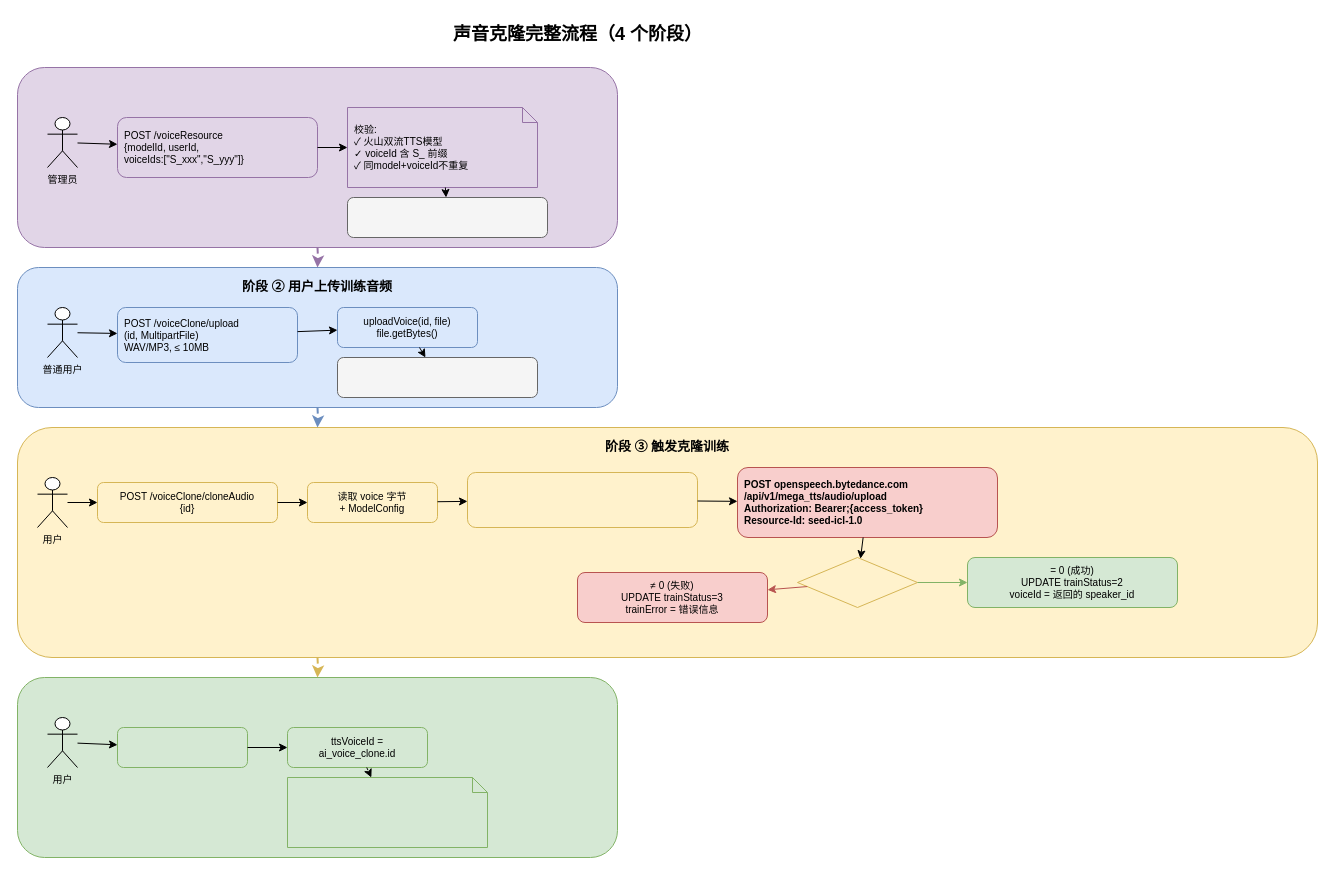
Image size: 1335x875. Some labels were removed from this diagram. Each missing label, with the box of its shape:
ConfigService 下发时 优先查 ai_tts_voice 找不到→查 ai_voice_clone voice = clone.voiceId: (286, 776, 488, 848)
INSERT ai_voice_clone ×N trainStatus=0, voice=null: (346, 196, 548, 238)
StatusCode?: (796, 556, 918, 608)
UPDATE ai_voice_clone SET voice = ? (LONGBLOB): (336, 356, 538, 398)
智能体设置中 选择克隆音色: (116, 726, 248, 768)
构造火山 API 请求 Base64(WAV) appid / speaker_id / source / language: (466, 472, 698, 528)
阶段 ① 管理员开通资源: (16, 66, 618, 248)
阶段 ④ 用户选用克隆音色: (16, 676, 618, 858)
